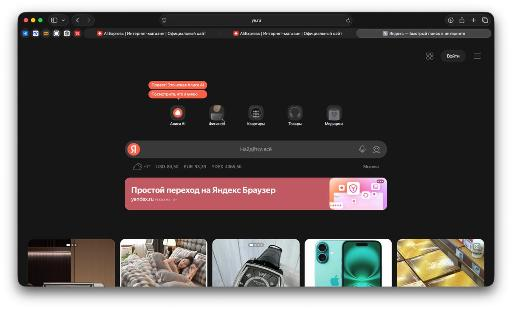yandex: (19, 34, 498, 288)
